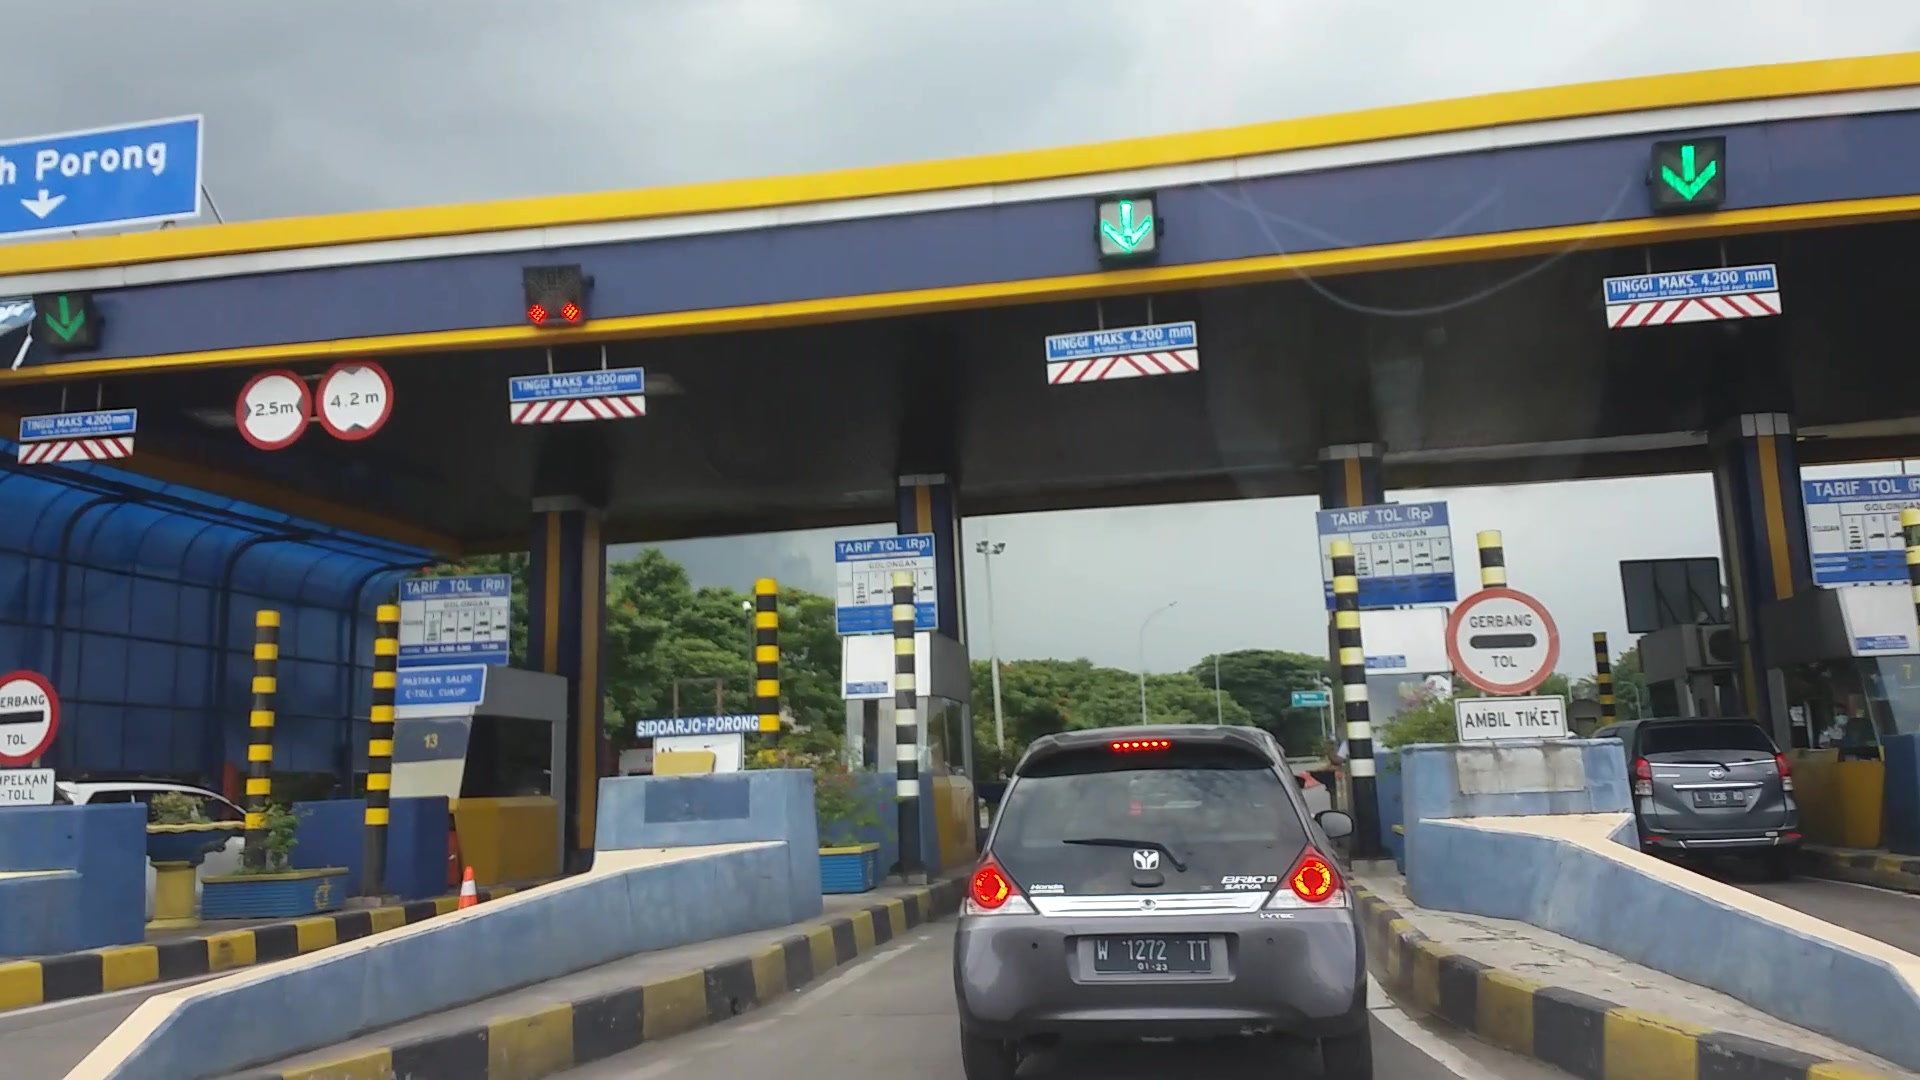plate_positive: (1095, 934, 1211, 975)
